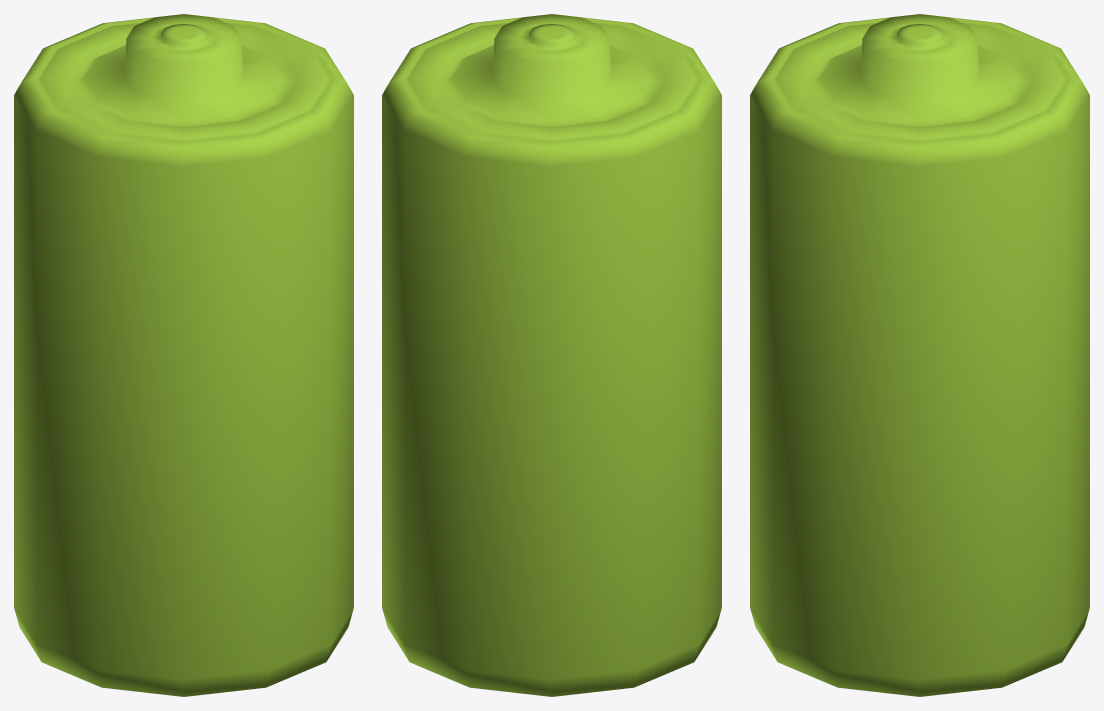
Rendered from Battery_Model_4.fbx.
3 views of the same model, side by side, from view 1: azimuth 30°, elevation 25°; view 2: azimuth 150°, elevation 25°; view 3: azimuth 270°, elevation 25° (orthographic).
Visible parts, largest first — view 1: Bat4; view 2: Bat4; view 3: Bat4.
Boxes of the visible parts, bbox=[...] form: Bat4: bbox=[14, 14, 353, 696]; Bat4: bbox=[382, 14, 721, 696]; Bat4: bbox=[750, 14, 1089, 696].
Bounding box in the file's own units: 111 × 215 × 111.
